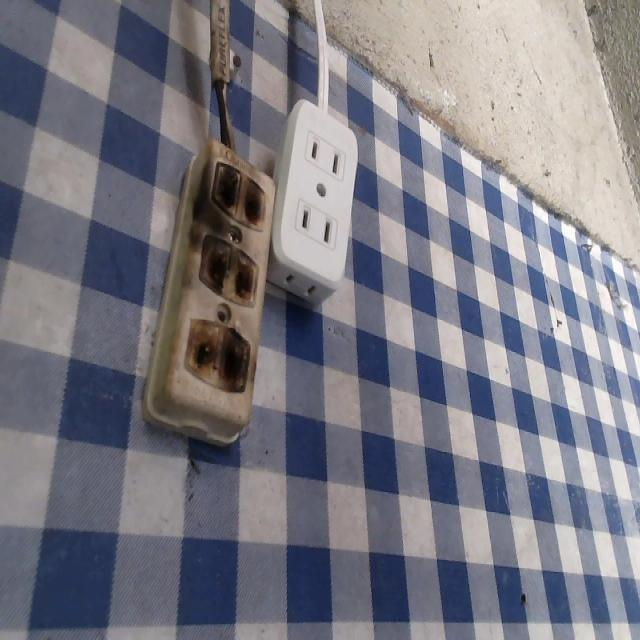-: (180, 312, 256, 405), (203, 157, 269, 232), (191, 242, 261, 310)
